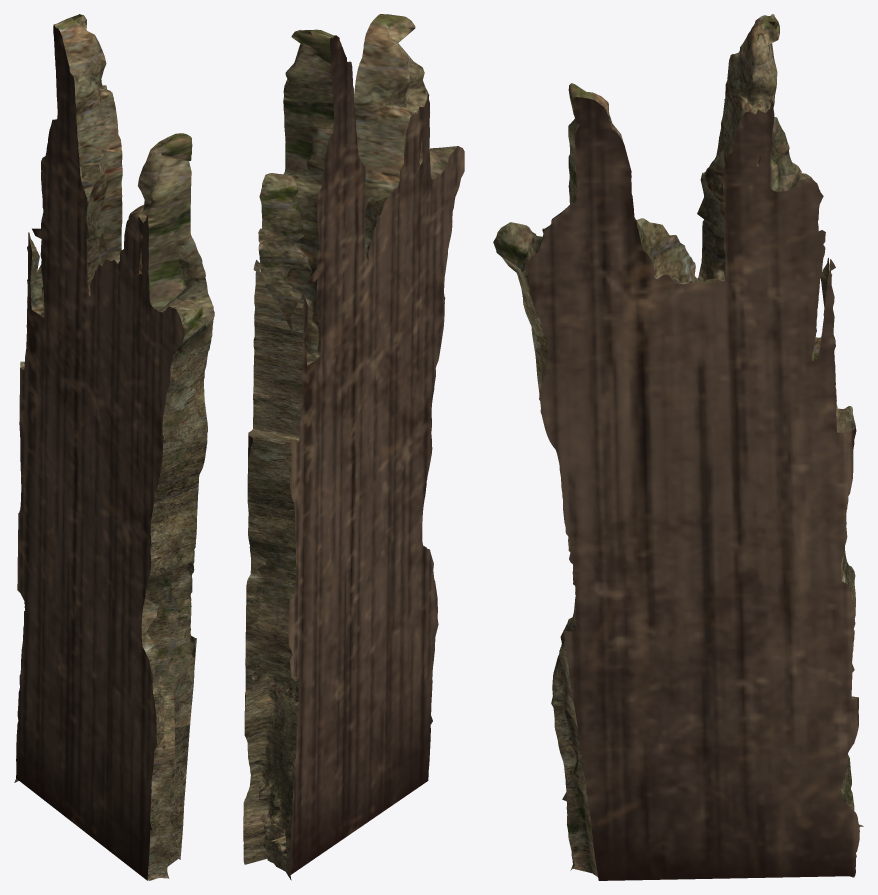
File: SM_Wood_05.fbx
3 renders of one model, left to right at view 1: azimuth 30°, elevation 25°; view 2: azimuth 150°, elevation 25°; view 3: azimuth 270°, elevation 25°, orthographic. The views are drawn at different scales.
Visible parts, largest first — view 1: SM_Wood_05_LOD0; view 2: SM_Wood_05_LOD0; view 3: SM_Wood_05_LOD0.
Boxes of the visible parts, <box> form: SM_Wood_05_LOD0: <box>14,14,214,880</box>; SM_Wood_05_LOD0: <box>243,14,464,880</box>; SM_Wood_05_LOD0: <box>493,14,863,880</box>.
Bounding box in the file's own units: 10.29 × 66.12 × 167.
